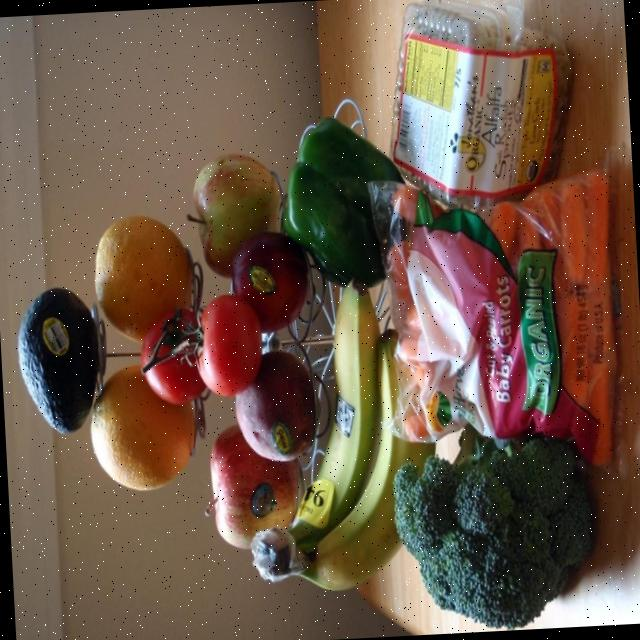banana: (303, 343, 403, 590)
